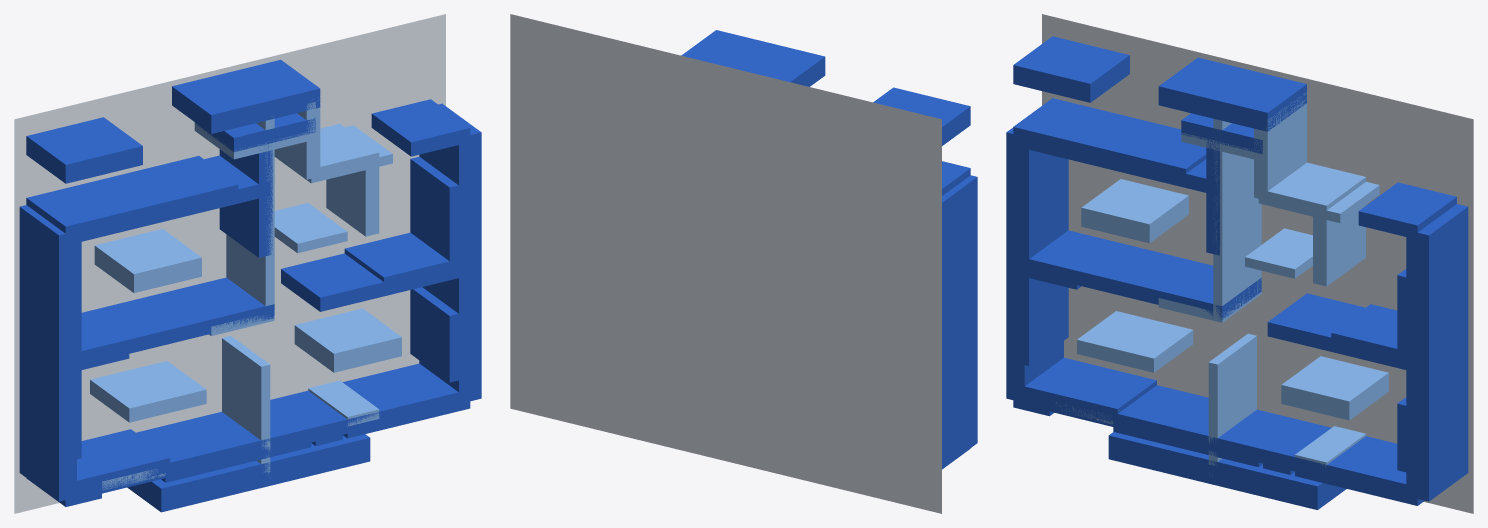
Rendered from 9297a365-0e76-42ff-9c79-7d76e0946aad.obj.
3 views of the same model, side by side, from view 1: azimuth 30°, elevation 25°; view 2: azimuth 150°, elevation 25°; view 3: azimuth 330°, elevation 25° (orthographic).
Bounding box in the file's own units: 19 × 16.6 × 3.05.
